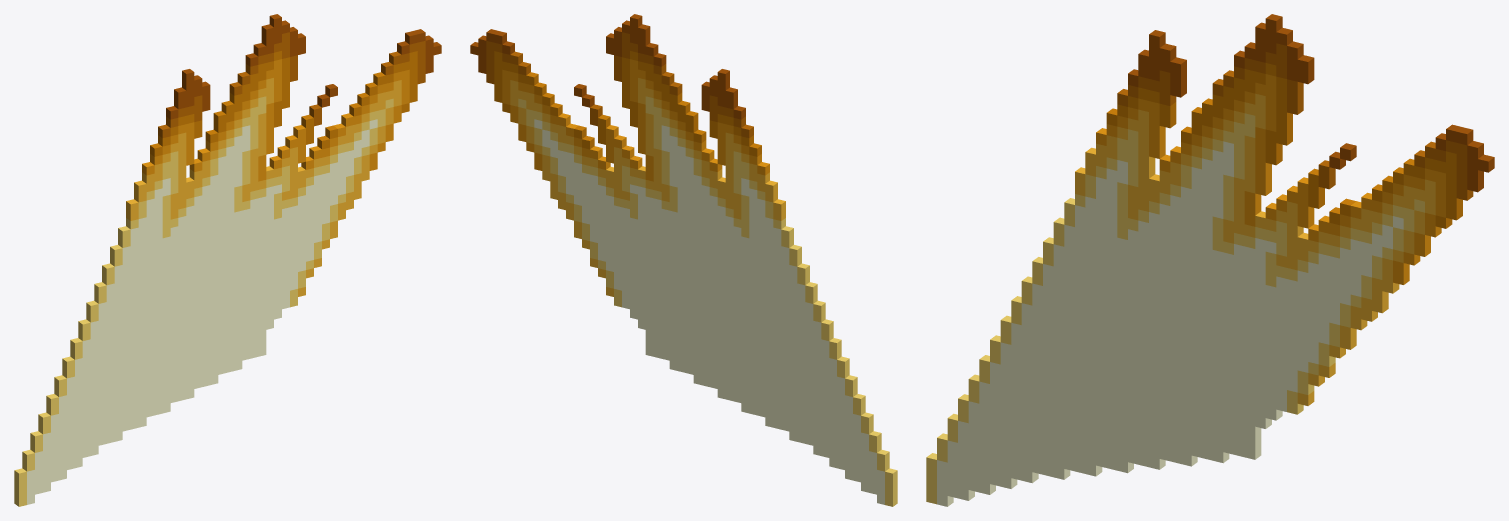
Rendered from Fight_713_2_05_fx.obj.
The picture shows the model from 3 angles, left to right: view 1: azimuth 30°, elevation 25°; view 2: azimuth 150°, elevation 25°; view 3: azimuth 330°, elevation 25°; orthographic projection. The views are drawn at different scales.
Bounding box in the file's own units: 5.3 × 5.1 × 0.1.
1 material, 1 textured.
